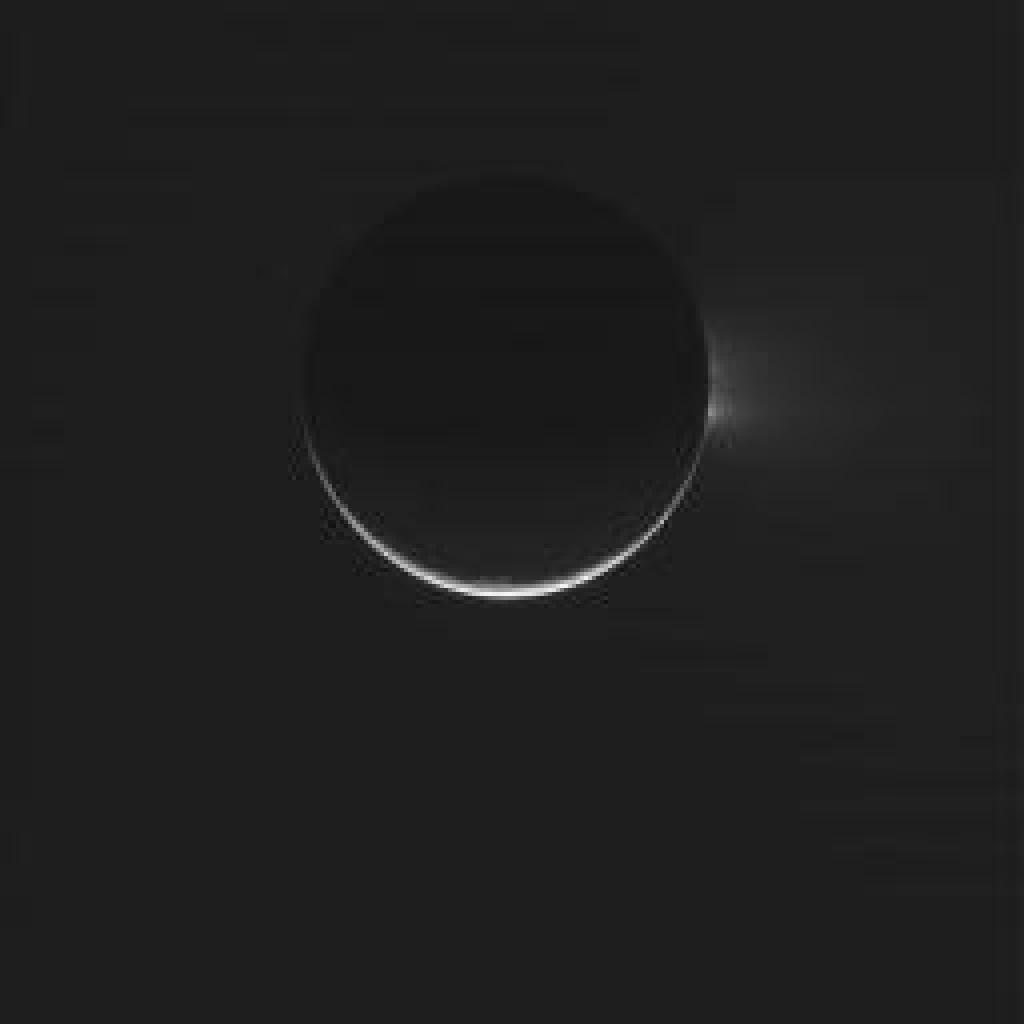plumes: (704, 321, 772, 440)
